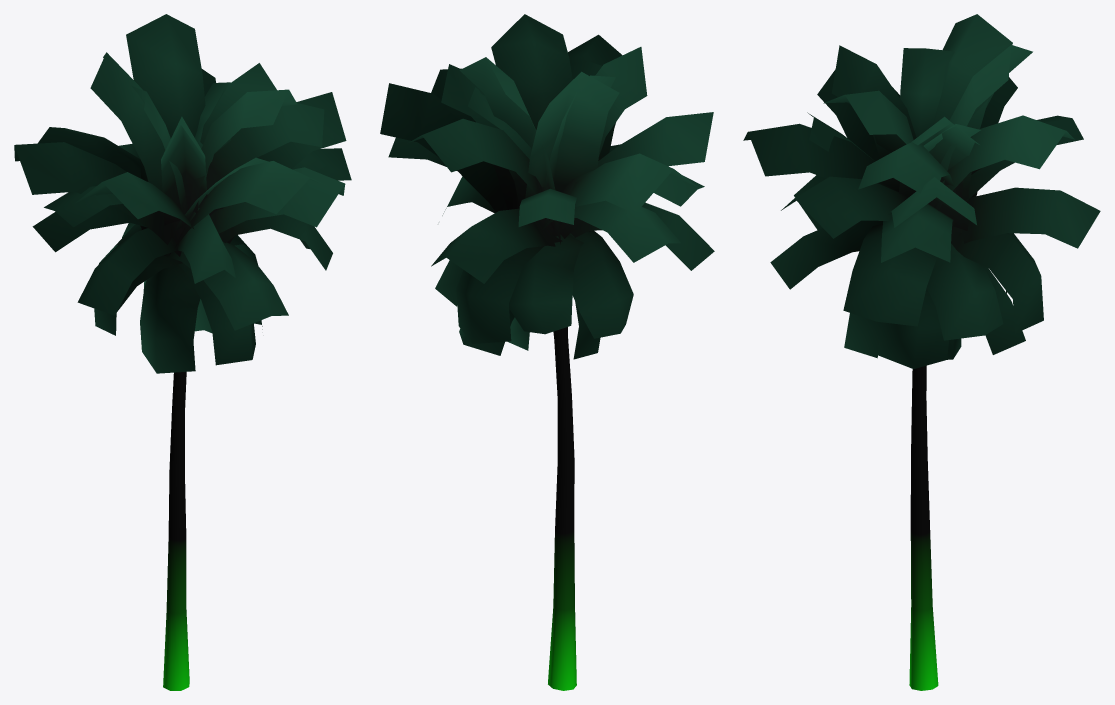
The model's file is SM_DesertCoconutPalm05.fbx.
3 renders of one model, left to right at view 1: azimuth 30°, elevation 25°; view 2: azimuth 150°, elevation 25°; view 3: azimuth 270°, elevation 25°, orthographic. The views are drawn at different scales.
Parts seen in each view (by area): view 1: SM_DesertCoconutPalm05_LOD0; view 2: SM_DesertCoconutPalm05_LOD0; view 3: SM_DesertCoconutPalm05_LOD0.
Boxes of the visible parts, x1=… form: SM_DesertCoconutPalm05_LOD0: x1=14, y1=14, x2=351, y2=690; SM_DesertCoconutPalm05_LOD0: x1=380, y1=14, x2=714, y2=690; SM_DesertCoconutPalm05_LOD0: x1=743, y1=14, x2=1100, y2=690.
Size of the model in its own units: 808 by 1625 by 800.
